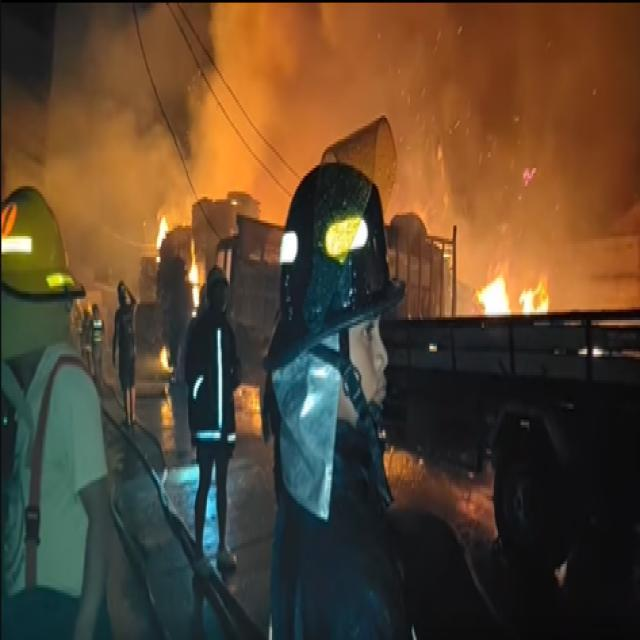Fire: (155, 212, 215, 318), (470, 266, 550, 318)
Smoke: (204, 0, 376, 215)
